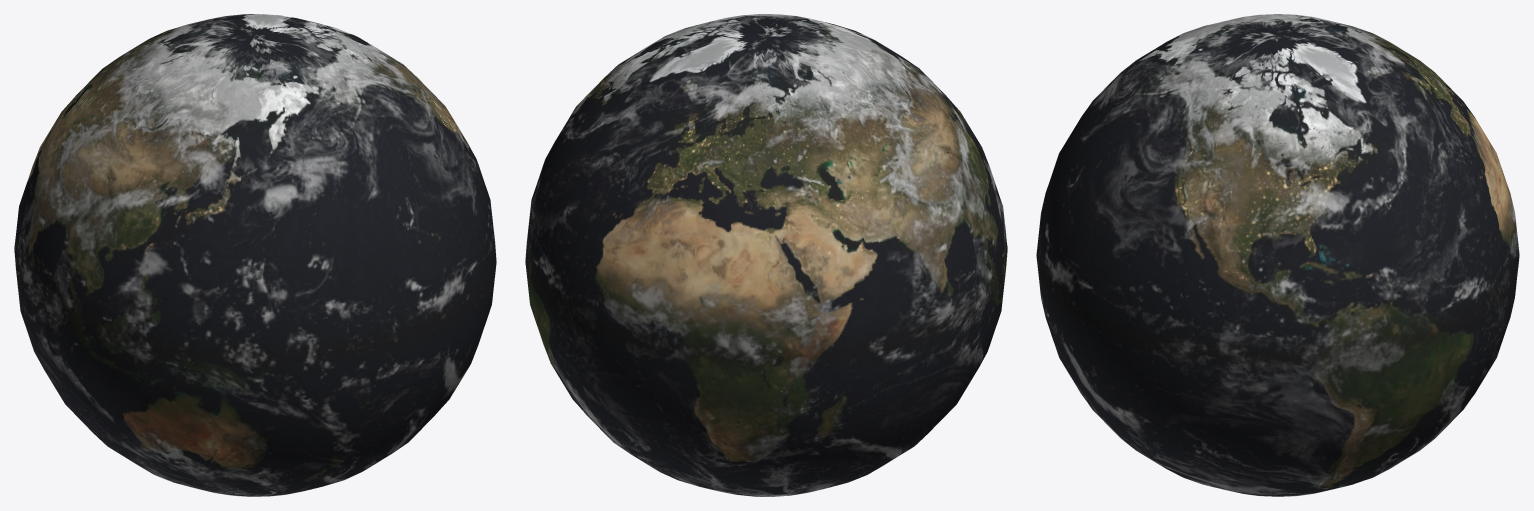
File: earth.glb
3 renders of one model, left to right at view 1: azimuth 30°, elevation 25°; view 2: azimuth 150°, elevation 25°; view 3: azimuth 270°, elevation 25°, orthographic.
Visible parts, largest first — view 1: Earth_land, Earth_cloud; view 2: Earth_land, Earth_cloud; view 3: Earth_land, Earth_cloud.
Part boxes in pixels (x1,y1,x2,y2): Earth_land: [14, 14, 496, 496]; Earth_cloud: [14, 14, 495, 496]; Earth_land: [525, 14, 1007, 496]; Earth_cloud: [525, 14, 1007, 496]; Earth_land: [1036, 14, 1519, 496]; Earth_cloud: [1038, 14, 1519, 496].
Size of the model in its own units: 20.02 by 20.02 by 20.02.
2 materials, 2 textured.
